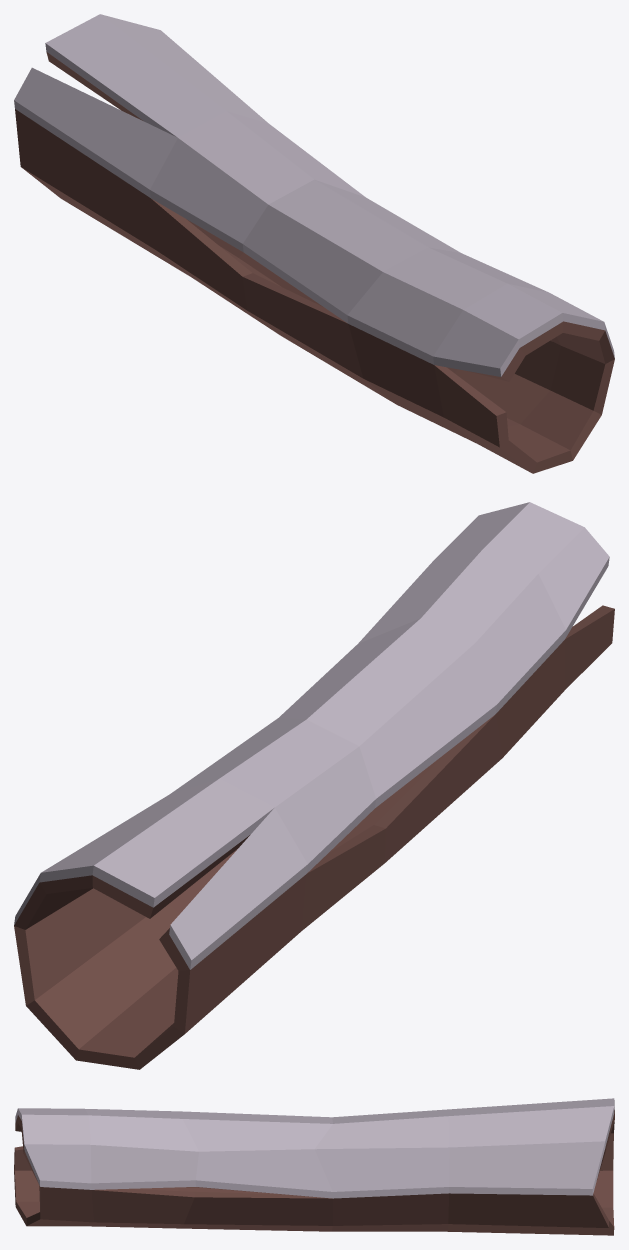
Rendered from Blends_WoodLog_Snow.glb.
3 renders of one model, top to bottom at view 1: azimuth 30°, elevation 25°; view 2: azimuth 150°, elevation 25°; view 3: azimuth 270°, elevation 25°, orthographic. The views are drawn at different scales.
Parts seen in each view (by area): view 1: WoodLog_Snow; view 2: WoodLog_Snow; view 3: WoodLog_Snow.
Boxes of the visible parts, left/top/right/bottom form: WoodLog_Snow: left=14, top=14, right=614, bottom=473; WoodLog_Snow: left=14, top=502, right=614, bottom=1069; WoodLog_Snow: left=14, top=1098, right=614, bottom=1235.
Bounding box in the file's own units: 0.6267 × 0.5842 × 2.49.
